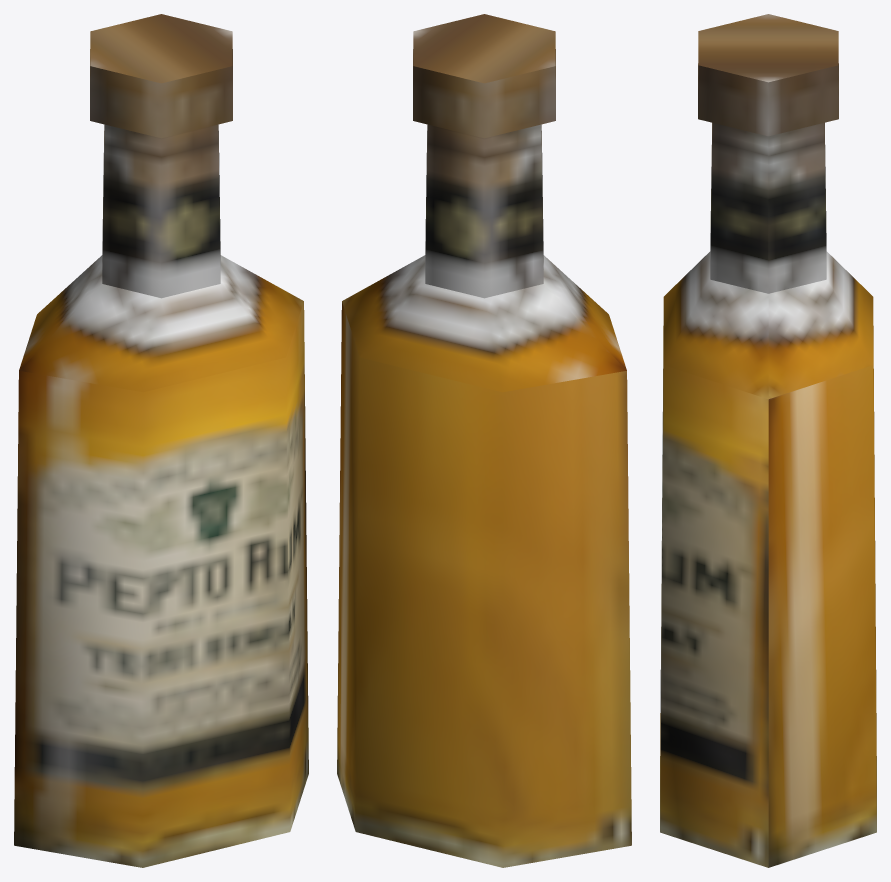
File: AlcoBottleV2.fbx
3 views of the same model, side by side, from view 1: azimuth 30°, elevation 25°; view 2: azimuth 150°, elevation 25°; view 3: azimuth 270°, elevation 25° (orthographic).
Visible parts, largest first — view 1: Drinks2.006; view 2: Drinks2.006; view 3: Drinks2.006.
Boxes of the visible parts, bbox=[...] form: Drinks2.006: bbox=[14, 14, 308, 867]; Drinks2.006: bbox=[337, 14, 631, 867]; Drinks2.006: bbox=[660, 14, 876, 867].
Bounding box in the file's own units: 0.1669 × 0.4114 × 0.1079.
